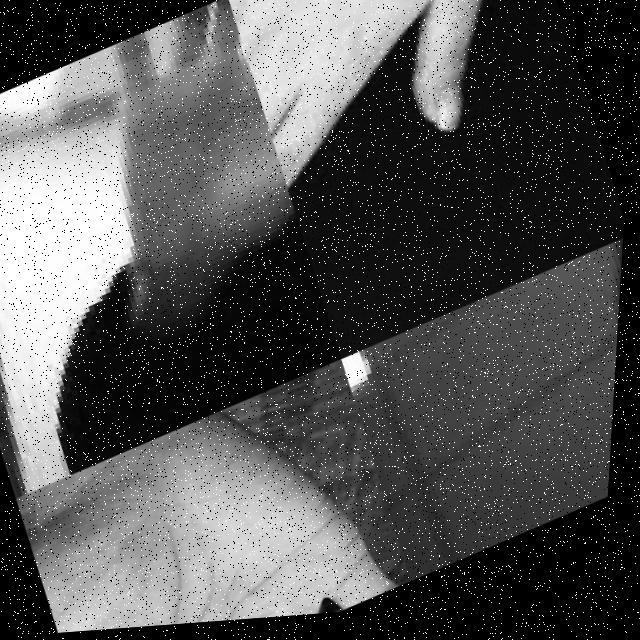no-gloves: (15, 360, 429, 637), (215, 0, 586, 257), (57, 0, 316, 307), (466, 245, 626, 500)
